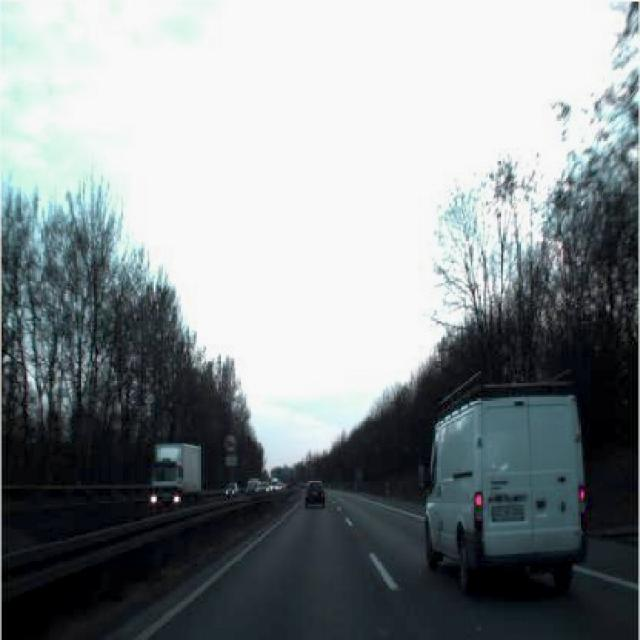Zakaz wyprzedzania: (220, 430, 240, 456)
